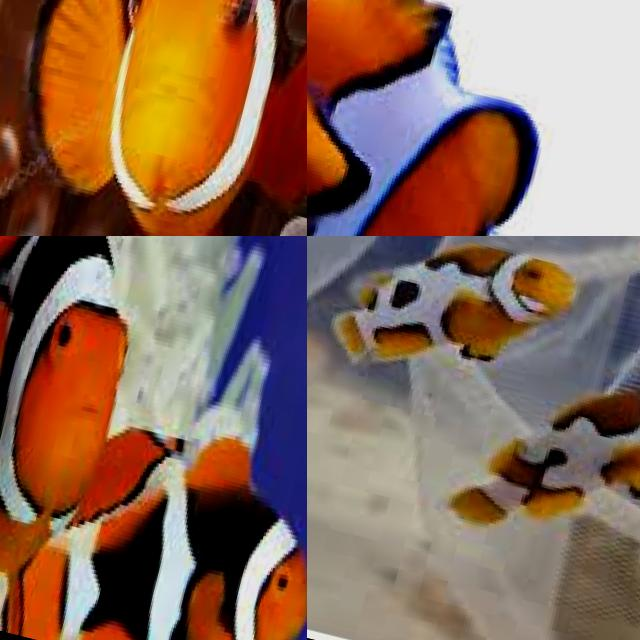Amphiprion-percula: (0, 377, 307, 640), (307, 0, 640, 236), (0, 0, 307, 236), (0, 236, 199, 598), (414, 303, 640, 598), (307, 236, 588, 445)
